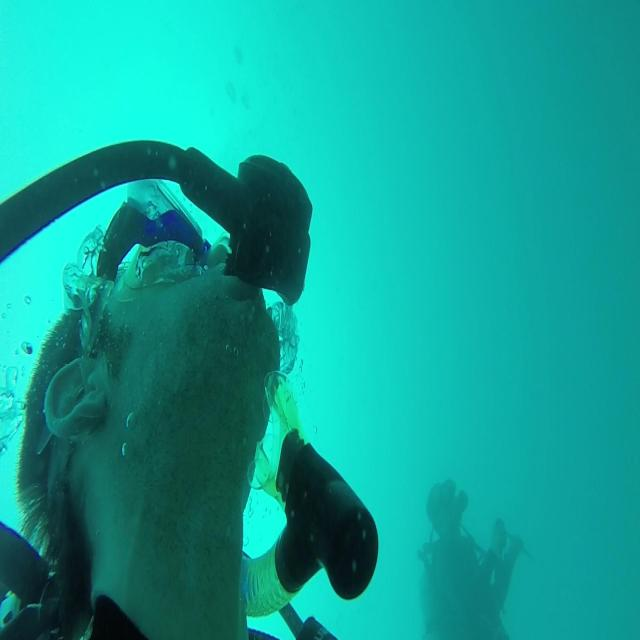human: (1, 143, 378, 638), (416, 478, 524, 638)
